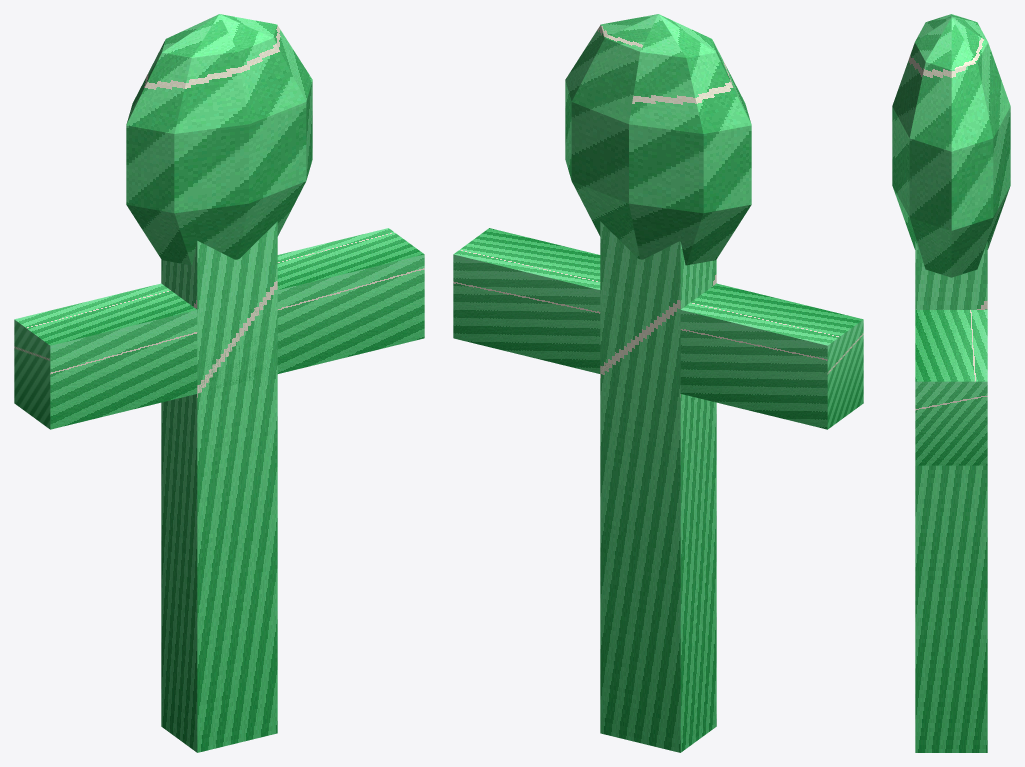
File: reliquia_sagrada_04.glb
3 views of the same model, side by side, from view 1: azimuth 30°, elevation 25°; view 2: azimuth 150°, elevation 25°; view 3: azimuth 270°, elevation 25° (orthographic).
Parts seen in each view (by area): view 1: reliquia_sagrada_04; view 2: reliquia_sagrada_04; view 3: reliquia_sagrada_04.
Boxes of the visible parts, left/top/right/bottom form: reliquia_sagrada_04: left=14, top=14, right=424, bottom=752; reliquia_sagrada_04: left=453, top=14, right=863, bottom=752; reliquia_sagrada_04: left=892, top=14, right=1010, bottom=752.
Size of the model in its own units: 0.42 by 0.7675 by 0.1151.
Materials: 1 (1 with a texture image).
